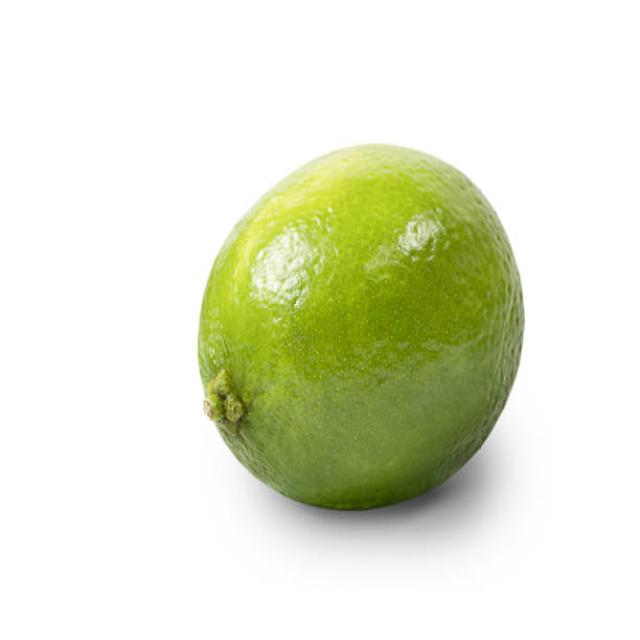Lemon: (195, 139, 528, 512)
